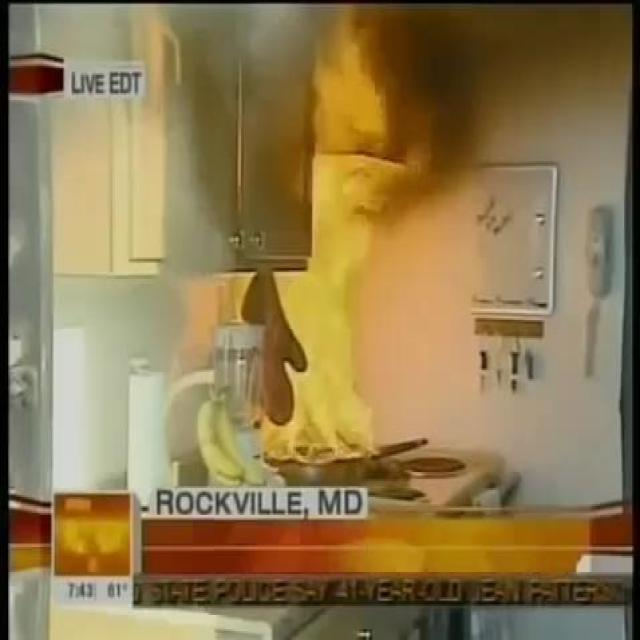fire: (390, 4, 520, 219), (196, 5, 330, 106)
smoke: (261, 16, 396, 461)
